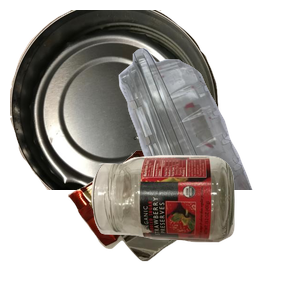glass: (89, 153, 300, 300)
metal: (10, 10, 221, 190)
plastic: (71, 45, 300, 225)
trash: (65, 148, 258, 300)
